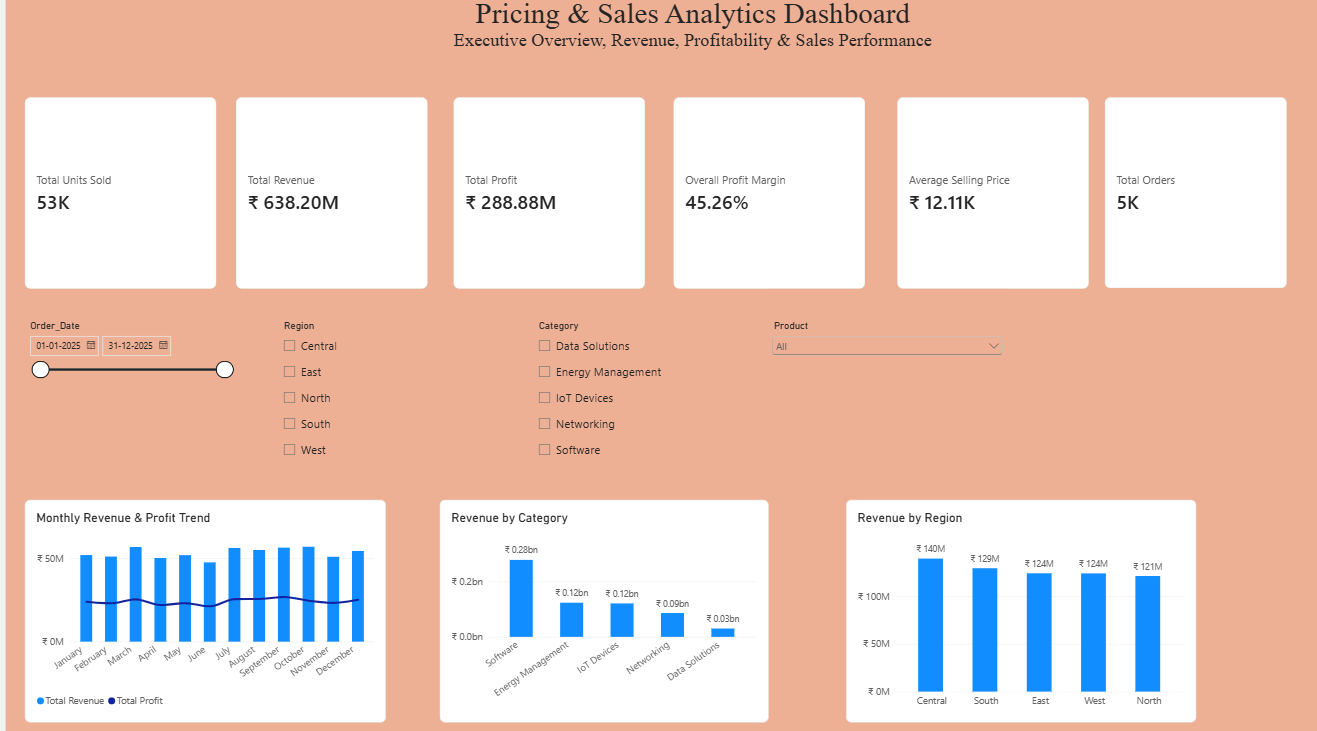

This screenshot's page, from the dashboard's own definition file:
{"tool":"powerbi","page":{"name":"Executive Overview","canvas":[1920,1080],"ordinal":0},"visuals":[{"type":"cardVisual","fields":{"Data":["public sales.Total Revenue"]},"box":[336.2,148,280,280],"z":0},{"type":"cardVisual","fields":{"Data":["public sales.Total Profit"]},"box":[654.1,148,280,280],"z":1000},{"type":"cardVisual","fields":{"Data":["public sales.Overall Profit Margin"]},"box":[975.7,148,280,280],"z":2000},{"type":"cardVisual","fields":{"Data":["public sales.Total Units Sold"]},"box":[27.4,148,280.6,280.6],"z":3000},{"type":"cardVisual","fields":{"Data":["public sales.Average Selling Price"]},"box":[1302.8,148,280,280],"z":4000},{"type":"lineClusteredColumnComboChart","title":"Monthly Revenue & Profit Trend","fields":{"Category":["public sales.Order_Date.Variation.Date Hierarchy.Month"],"Y":["public sales.Total Revenue"],"Y2":["public sales.Total Profit"]},"box":[27.4,736.4,528.1,325.2],"z":5000},{"type":"clusteredColumnChart","title":"Revenue by Category","fields":{"Category":["public sales.Category"],"Y":["public sales.Total Revenue"]},"box":[634,736.4,480.5,325.2],"z":6000},{"type":"clusteredColumnChart","title":"Revenue by Region","fields":{"Category":["public sales.Region"],"Y":["public sales.Total Revenue"]},"box":[1227.9,736.4,511.6,325.2],"z":7000},{"type":"slicer","fields":{"Values":["public sales.Region"]},"box":[398.3,473.2,307,219.3],"z":8000},{"type":"slicer","fields":{"Values":["public sales.Order_Date"]},"box":[27.4,473.2,308.8,219.3],"z":9000},{"type":"slicer","fields":{"Values":["public sales.Category"]},"box":[771.1,473.2,254,219.3],"z":10000},{"type":"slicer","fields":{"Values":["public sales.Product"]},"box":[1114.6,473.2,347.2,219.3],"z":11000},{"type":"textbox","box":[593.8,0,820.4,96.8],"z":11001},{"type":"cardVisual","fields":{"Data":["public sales.Total Orders"]},"box":[1606.1,148,266.8,279.6],"z":11002}]}

Visuals, with their boxes in screenshot pixels (x1, y1, x2, y2), scaled from the page's 1920x1080 canvas onto the 1317x731 screenshot:
cardVisual - public sales.Total Revenue: (231,100,423,290)
cardVisual - public sales.Total Profit: (449,100,641,290)
cardVisual - public sales.Overall Profit Margin: (669,100,861,290)
cardVisual - public sales.Total Units Sold: (19,100,211,290)
cardVisual - public sales.Average Selling Price: (894,100,1086,290)
"Monthly Revenue & Profit Trend" lineClusteredColumnComboChart: (19,498,381,719)
"Revenue by Category" clusteredColumnChart: (435,498,764,719)
"Revenue by Region" clusteredColumnChart: (842,498,1193,719)
slicer - public sales.Region: (273,320,484,469)
slicer - public sales.Order_Date: (19,320,231,469)
slicer - public sales.Category: (529,320,703,469)
slicer - public sales.Product: (765,320,1003,469)
textbox: (407,0,970,66)
cardVisual - public sales.Total Orders: (1102,100,1285,289)
